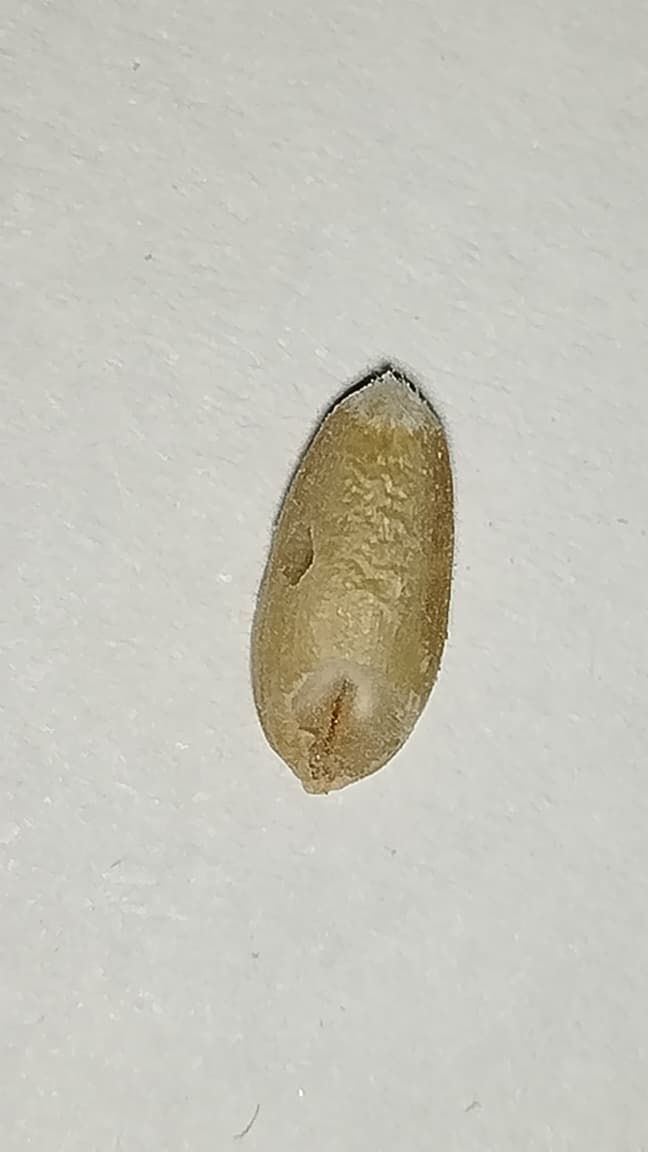damage: (253, 368, 453, 774)
insectdamage: (292, 663, 399, 774), (282, 501, 335, 583)
